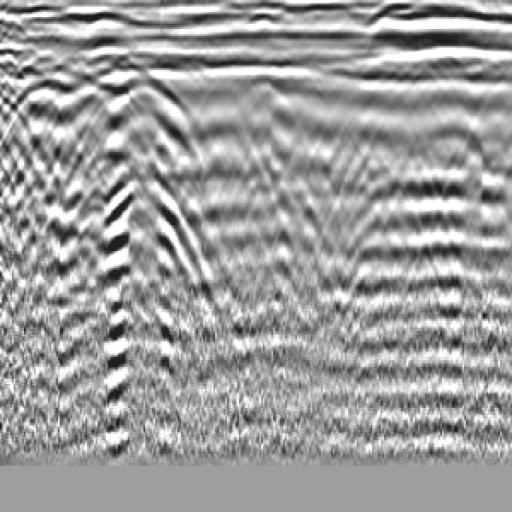non-metallic: (35, 61, 239, 417)
